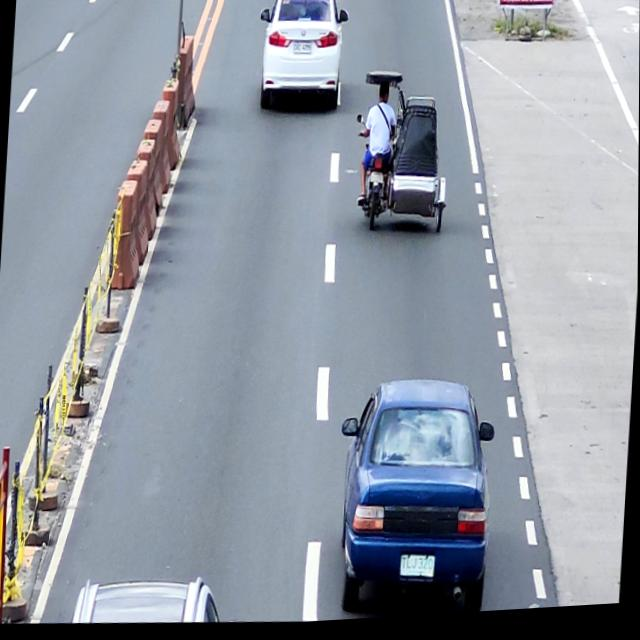Car: (329, 375, 500, 624), (254, 0, 351, 119), (73, 569, 223, 632)
License-Plate: (400, 557, 437, 584), (293, 44, 314, 59), (370, 175, 384, 190)
Tricycle: (350, 69, 456, 244)
